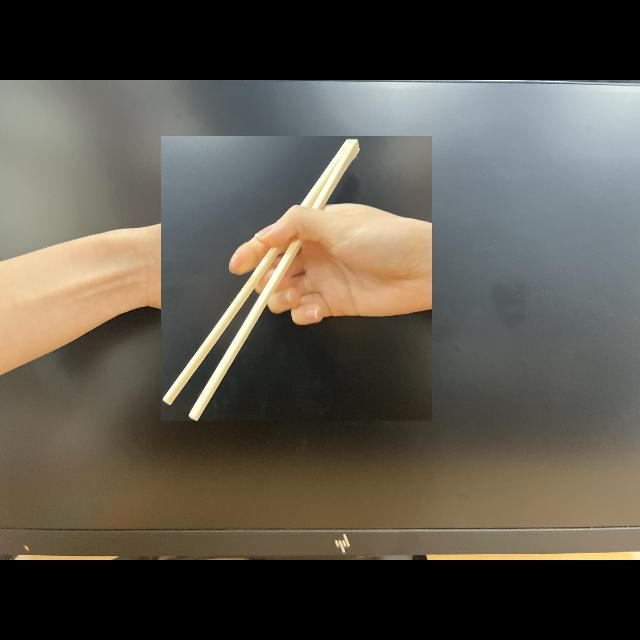stick: (161, 136, 431, 420)
